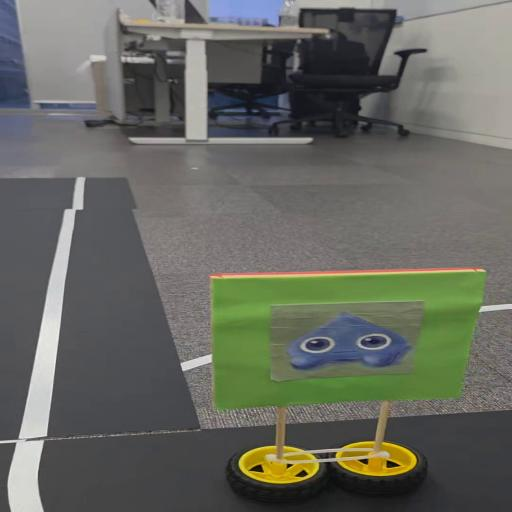Sign_B: (204, 266, 486, 498)
